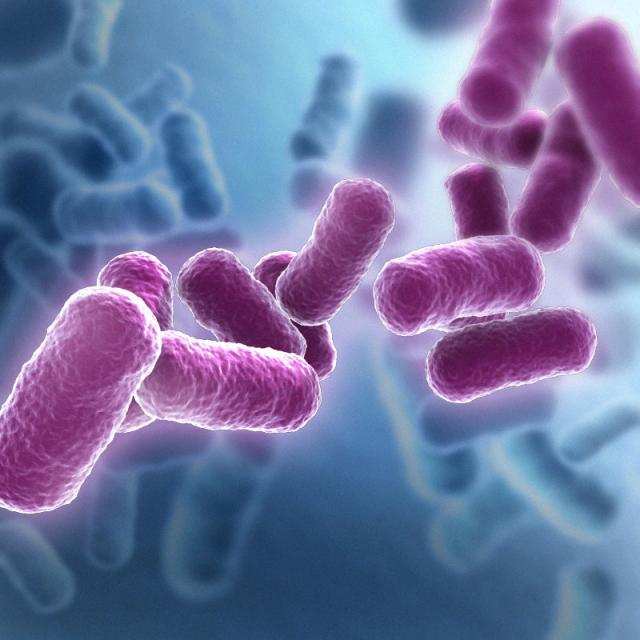Amoeba: (1, 175, 396, 515)
